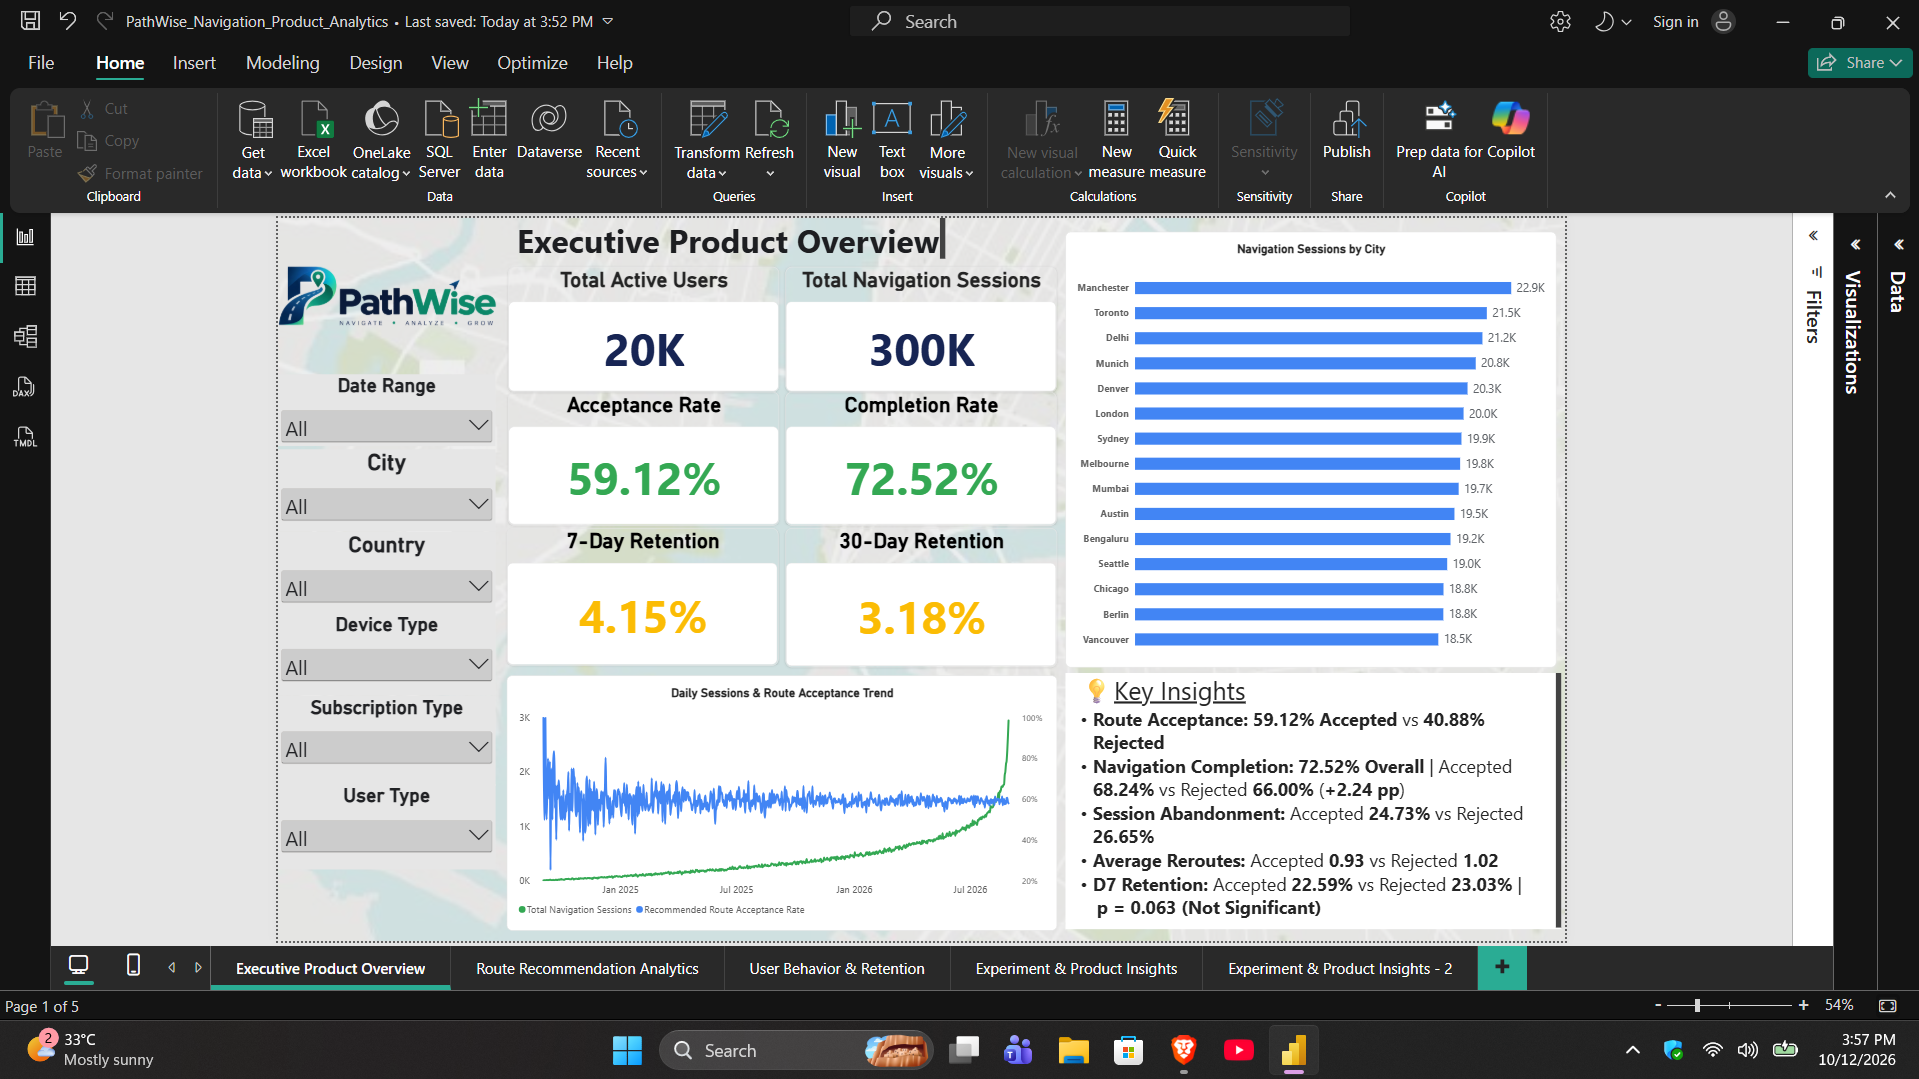

What the dashboard file says about the page in this screenshot:
{"tool":"powerbi","page":{"name":"Executive Product Overview","canvas":[1920,1080],"ordinal":0},"visuals":[{"type":"textbox","box":[342.5,0,652.5,62.5],"z":0},{"type":"cardVisual","title":"Total Active Users","fields":{"Data":["KPI Measures.Total Active Users"]},"box":[342.5,72.5,405,187.5],"z":1000},{"type":"cardVisual","title":"Total Navigation Sessions","fields":{"Data":["KPI Measures.Total Navigation Sessions"]},"box":[757.5,72.5,405,187.5],"z":2000},{"type":"cardVisual","title":"Acceptance Rate","fields":{"Data":["KPI Measures.Recommended Route Acceptance Rate"]},"box":[342.5,260,405,200],"z":3000},{"type":"cardVisual","title":"Completion Rate","fields":{"Data":["KPI Measures.Navigation Completion Rate"]},"box":[757.5,260,405,200],"z":4000},{"type":"cardVisual","title":"7-Day Retention","fields":{"Data":["Date Table.7-Day Retention Rate"]},"box":[341.7,463.1,405.5,205.8],"z":5000},{"type":"cardVisual","title":"30-Day Retention","fields":{"Data":["Date Table.30-Day Retention Rate"]},"box":[757.5,463.1,405.5,207.9],"z":6000},{"type":"lineChart","title":"Daily Sessions & Route Acceptance Trend","fields":{"Y":["KPI Measures.Total Navigation Sessions"],"Y2":["KPI Measures.Recommended Route Acceptance Rate"],"Category":["pathwise navigation_sessions.session_date"]},"box":[341.7,683.4,821.3,380.8],"z":7000},{"type":"clusteredBarChart","title":"Navigation Sessions by City","fields":{"Category":["pathwise navigation_sessions.city"],"Y":["KPI Measures.Total Navigation Sessions"]},"box":[1175,20,732.5,650],"z":8000},{"type":"slicer","title":"Date Range","fields":{"Values":["pathwise navigation_sessions.recommended_route_type"]},"box":[0,232.5,325,107.5],"z":9000},{"type":"slicer","title":"City ","fields":{"Values":["pathwise navigation_sessions.city"]},"box":[0,345,325,122.5],"z":10000},{"type":"slicer","title":"Country ","fields":{"Values":["pathwise users.country"]},"box":[0,467.5,325,122.5],"z":11000},{"type":"slicer","title":"Device Type","fields":{"Values":["pathwise users.device_type"]},"box":[0,590,325,122.5],"z":12000},{"type":"slicer","title":"Subscription Type","fields":{"Values":["pathwise users.subscription_type"]},"box":[0,712.5,325,135],"z":13000},{"type":"slicer","title":"User Type","fields":{"Values":["pathwise users.user_type"]},"box":[0,845,325,127.5],"z":14000},{"type":"image","box":[0,0,325.2,232.6],"z":15000},{"type":"textbox","box":[1175,680,740,382.5],"z":16000}]}

Visuals, with their boxes on the page's 1920x1080 design canvas (x1, y1, x2, y2). These are canvas units, not pixel positions in the 1919x1079 screenshot, which may show the page scaled, cropped or inside an application window:
textbox: bbox(342, 0, 995, 62)
"Total Active Users" cardVisual: bbox(342, 72, 748, 260)
"Total Navigation Sessions" cardVisual: bbox(758, 72, 1162, 260)
"Acceptance Rate" cardVisual: bbox(342, 260, 748, 460)
"Completion Rate" cardVisual: bbox(758, 260, 1162, 460)
"7-Day Retention" cardVisual: bbox(342, 463, 747, 669)
"30-Day Retention" cardVisual: bbox(758, 463, 1163, 671)
"Daily Sessions & Route Acceptance Trend" lineChart: bbox(342, 683, 1163, 1064)
"Navigation Sessions by City" clusteredBarChart: bbox(1175, 20, 1908, 670)
"Date Range" slicer: bbox(0, 232, 325, 340)
"City " slicer: bbox(0, 345, 325, 468)
"Country " slicer: bbox(0, 468, 325, 590)
"Device Type" slicer: bbox(0, 590, 325, 712)
"Subscription Type" slicer: bbox(0, 712, 325, 848)
"User Type" slicer: bbox(0, 845, 325, 972)
image: bbox(0, 0, 325, 233)
textbox: bbox(1175, 680, 1915, 1062)
